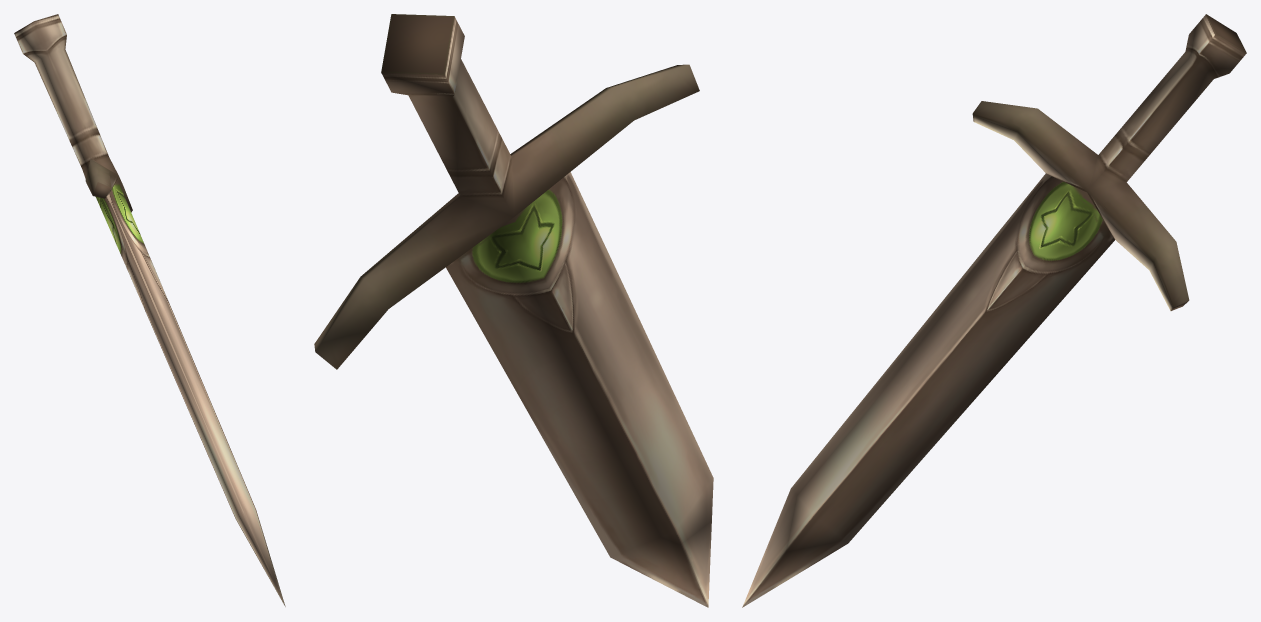
The model's file is Sword(4).obj.
The picture shows the model from 3 angles, left to right: view 1: azimuth 30°, elevation 25°; view 2: azimuth 150°, elevation 25°; view 3: azimuth 270°, elevation 25°; orthographic projection. The views are drawn at different scales.
Parts seen in each view (by area): view 1: sword1_LOD003; view 2: sword1_LOD003; view 3: sword1_LOD003.
Part boxes in pixels (x1=…): sword1_LOD003: x1=14, y1=14, x2=285, y2=606; sword1_LOD003: x1=314, y1=14, x2=713, y2=607; sword1_LOD003: x1=742, y1=14, x2=1246, y2=607.
Bounding box in the file's own units: 0.2963 × 1.09 × 0.893.
